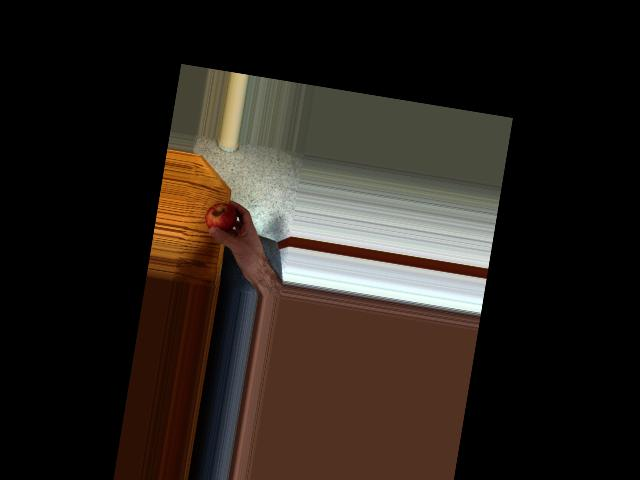apple: (201, 199, 239, 238)
